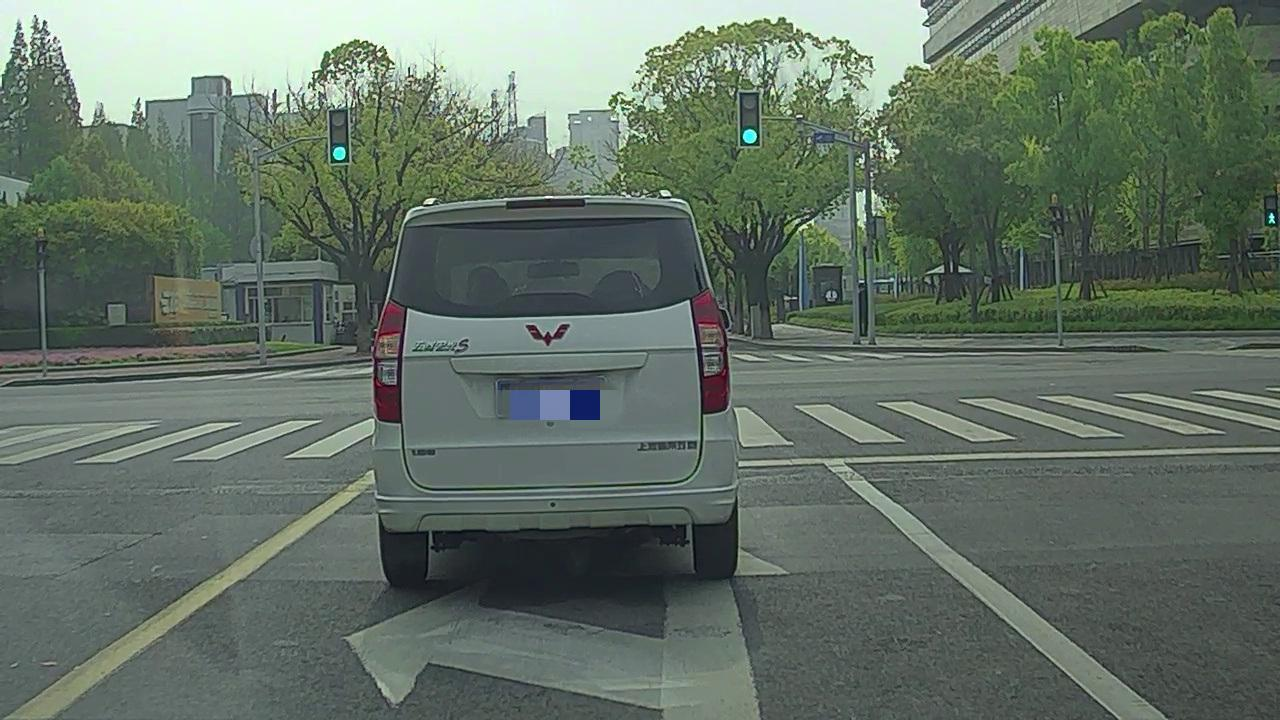traffic_light: (740, 92, 761, 147), (329, 111, 349, 162)
